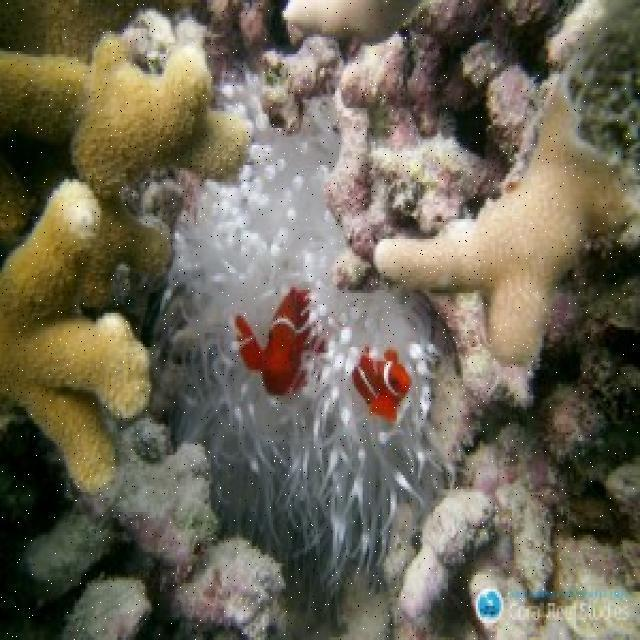Bleached: (341, 374, 640, 640), (13, 422, 290, 640), (238, 1, 640, 135), (433, 129, 640, 376), (323, 128, 499, 294), (118, 8, 226, 80)
Healthy: (1, 1, 243, 494)
